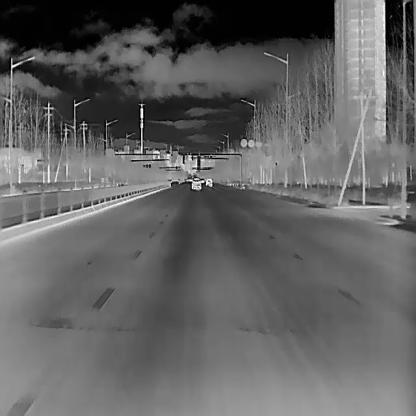car: (190, 176, 201, 190), (204, 177, 212, 186), (200, 176, 204, 182)
